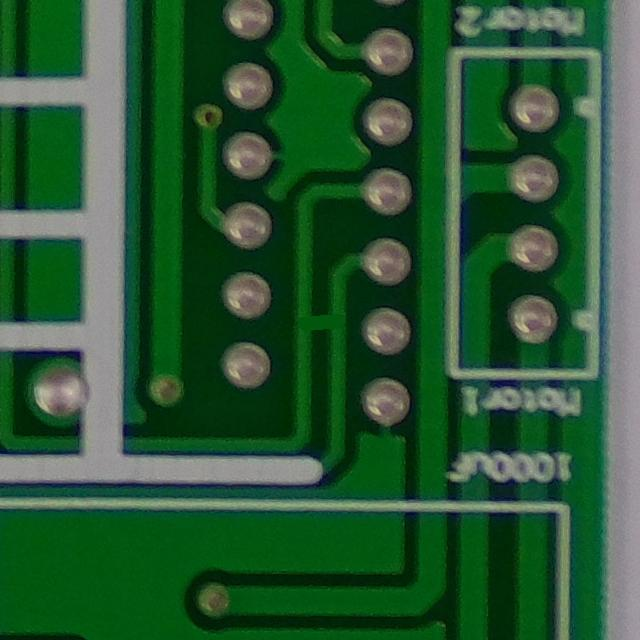short: (283, 288, 357, 352)
